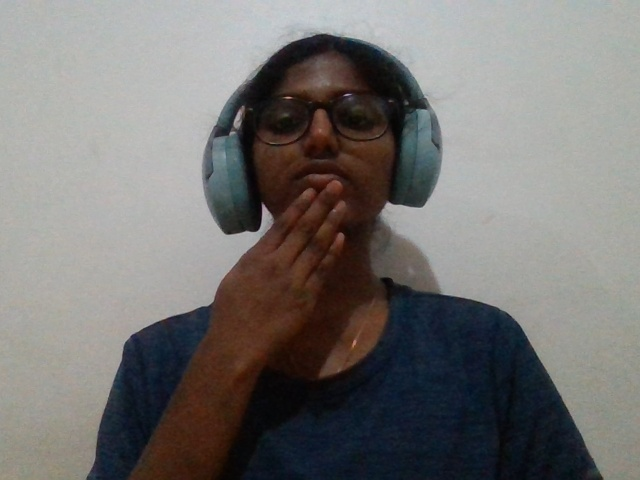Thanks: (170, 149, 384, 434)
